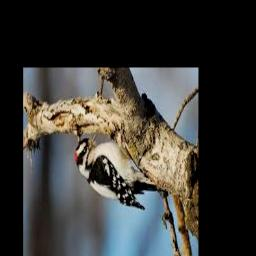Woodpecker: (75, 131, 163, 210)
